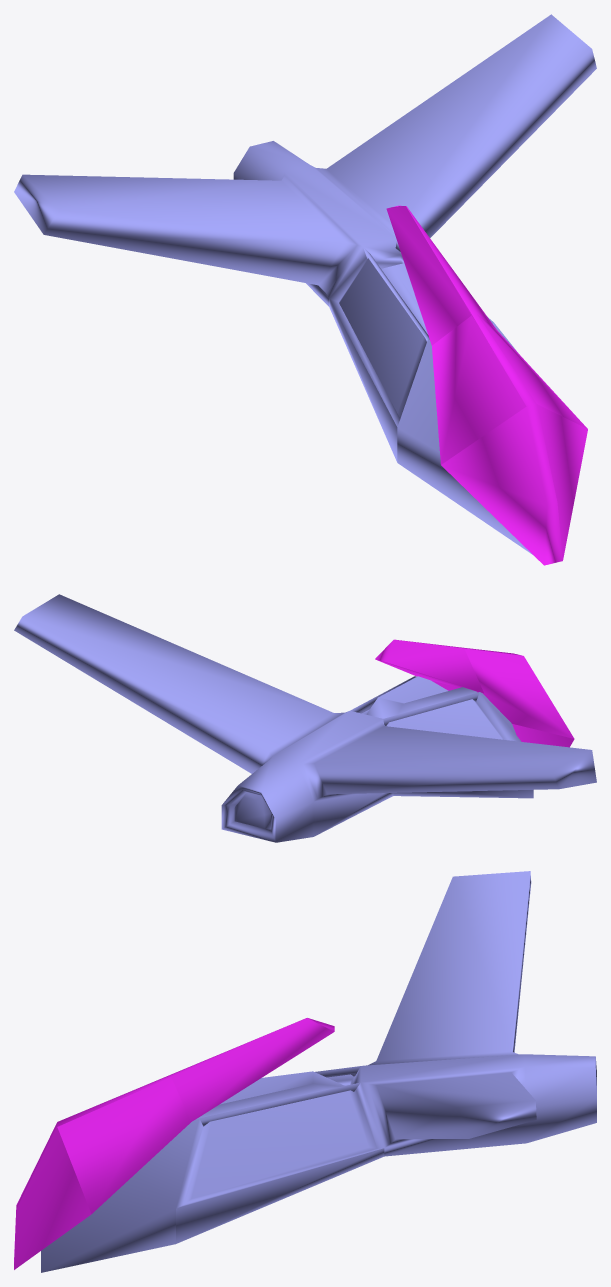
The model's file is space_ship.fbx.
3 renders of one model, top to bottom at view 1: azimuth 30°, elevation 25°; view 2: azimuth 150°, elevation 25°; view 3: azimuth 270°, elevation 25°, orthographic.
Visible parts, largest first — view 1: space_ship, cockpit; view 2: space_ship, cockpit; view 3: space_ship, cockpit.
Part boxes in pixels (left/top/right/bottom): space_ship: left=14, top=14, right=596, bottom=554; cockpit: left=386, top=205, right=587, bottom=565; space_ship: left=14, top=594, right=596, bottom=842; cockpit: left=375, top=639, right=574, bottom=747; space_ship: left=41, top=871, right=596, bottom=1272; cockpit: left=14, top=1018, right=334, bottom=1269.
Size of the model in its own units: 90.91 by 46.86 by 83.04.
